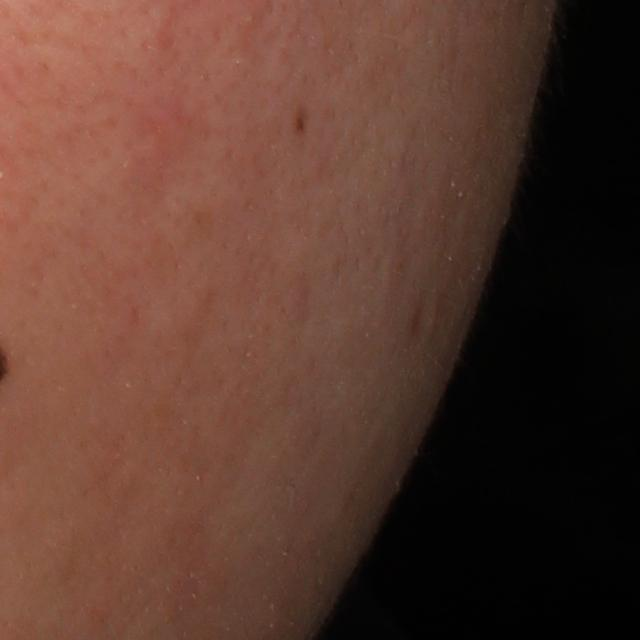nevus: (294, 114, 310, 139)
